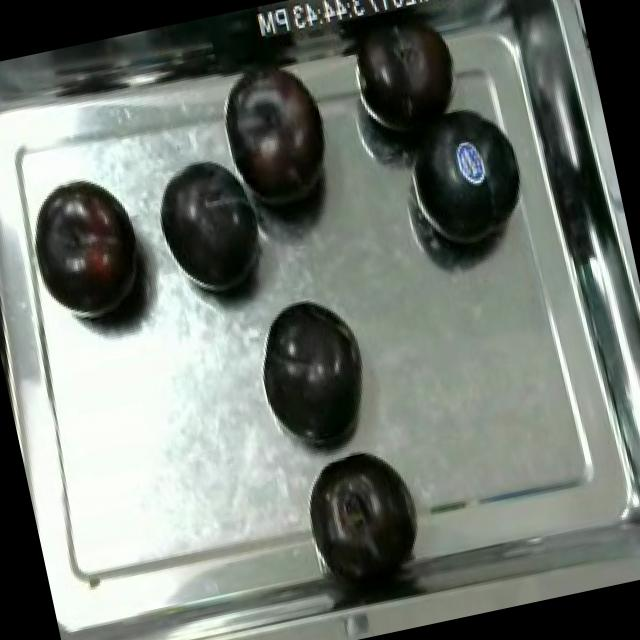Fruit: (387, 82, 542, 265), (138, 138, 288, 316), (20, 165, 164, 341), (212, 56, 356, 230), (242, 281, 382, 458), (336, 0, 478, 155), (297, 439, 424, 574)
